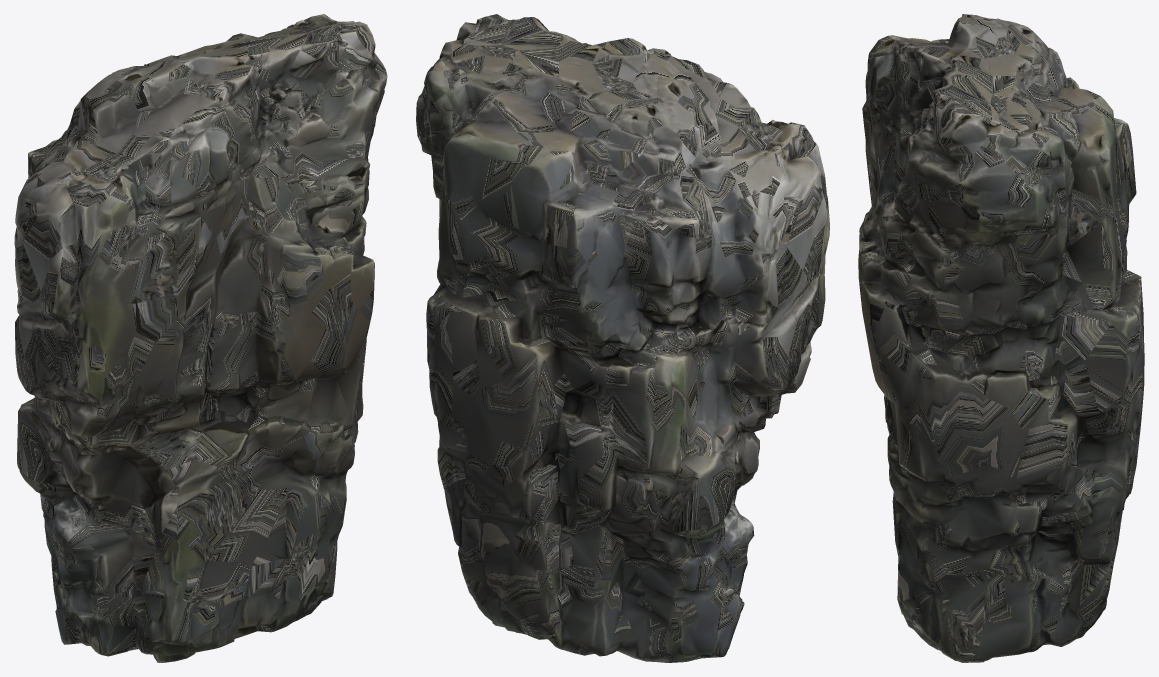
The model's file is Stone.glb.
3 renders of one model, left to right at view 1: azimuth 30°, elevation 25°; view 2: azimuth 150°, elevation 25°; view 3: azimuth 270°, elevation 25°, orthographic. The views are drawn at different scales.
Parts seen in each view (by area): view 1: Stone; view 2: Stone; view 3: Stone.
Boxes of the visible parts, x1,y1,x2,y2 form: Stone: (14, 14, 387, 662); Stone: (416, 14, 829, 662); Stone: (858, 14, 1144, 662).
Size of the model in its own units: 1.19 by 1.9 by 0.8192.
Materials: 1 (1 with a texture image).
